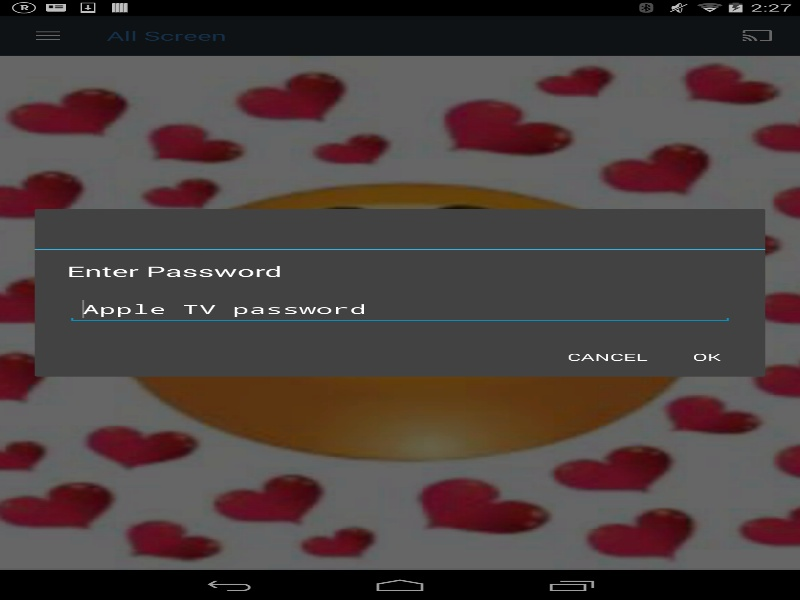Button: (551, 340, 664, 374), (664, 340, 749, 374)
Input: (66, 295, 733, 322)
